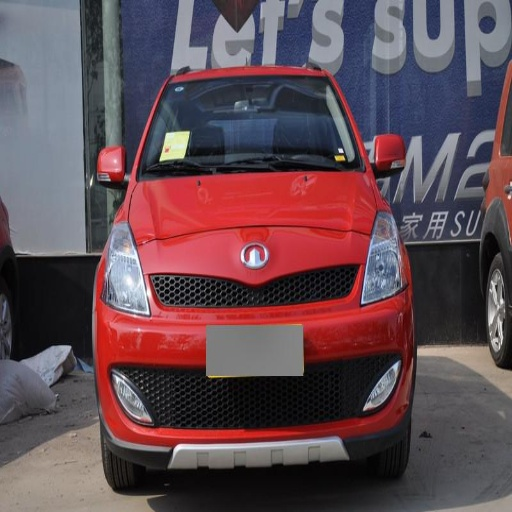front_bumper: (97, 227, 410, 467)
front_right_light: (100, 223, 150, 316)
hood: (128, 171, 377, 243), (285, 238, 367, 270)
left_mirror: (373, 134, 406, 177)
right_mirror: (97, 148, 127, 188)
